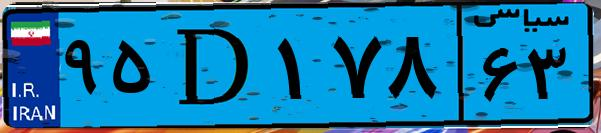1: (270, 28, 330, 110)
3: (525, 38, 570, 115)
5: (110, 28, 158, 98)
6: (475, 38, 525, 113)
7: (330, 28, 385, 110)
8: (385, 28, 445, 110)
9: (57, 26, 110, 100)
D: (158, 12, 270, 120)
